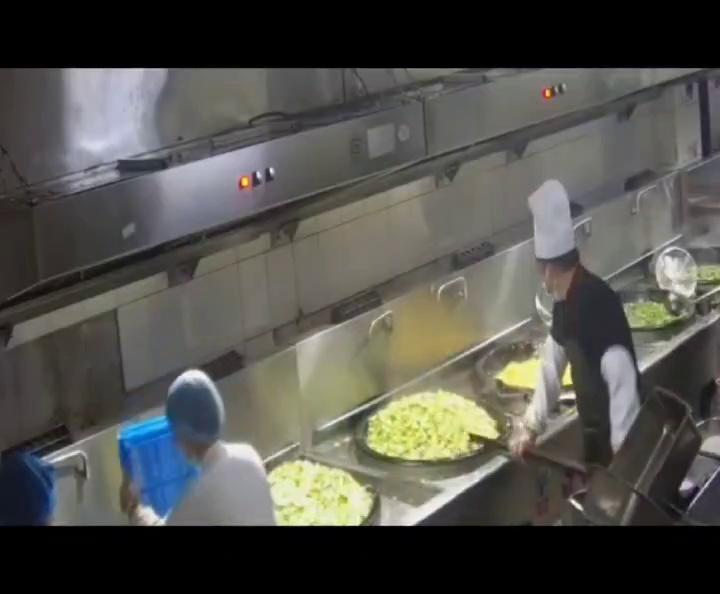gloves: (165, 369, 225, 443)
